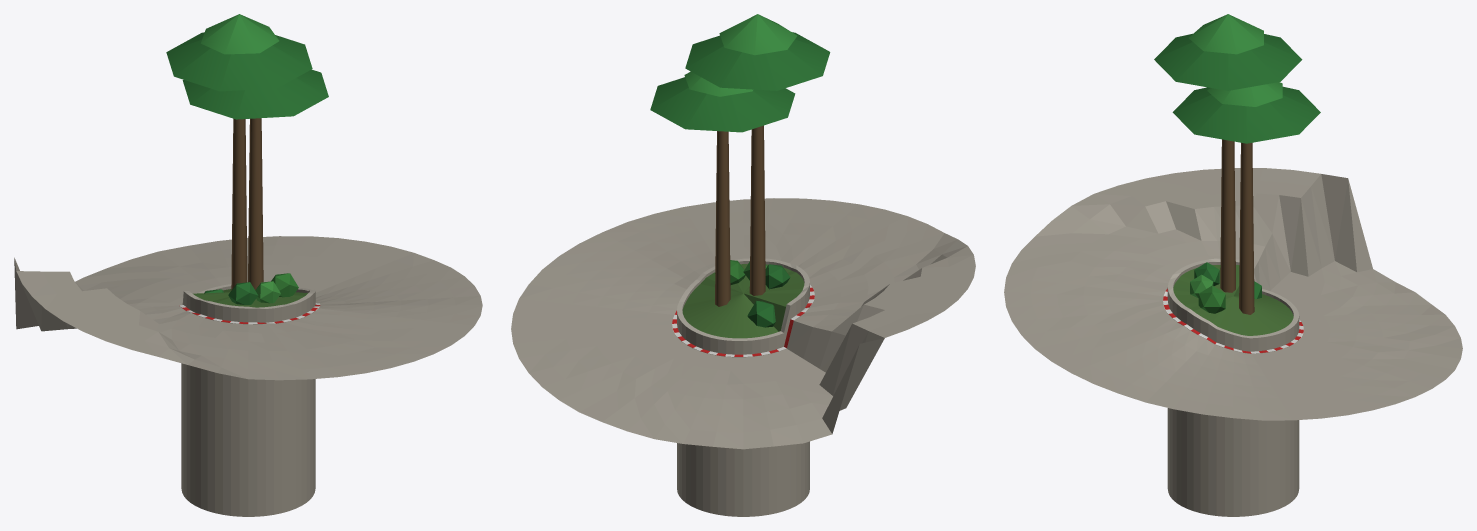
Rendered from monaco-canteiro.glb.
The picture shows the model from 3 angles, left to right: view 1: azimuth 30°, elevation 25°; view 2: azimuth 150°, elevation 25°; view 3: azimuth 270°, elevation 25°; orthographic projection. The views are drawn at different scales.
Visible parts, largest first — view 1: monaco-canteiro; view 2: monaco-canteiro; view 3: monaco-canteiro.
Part boxes in pixels (box(x1,y1,x2,y2)): monaco-canteiro: box(14, 14, 482, 516); monaco-canteiro: box(511, 14, 975, 516); monaco-canteiro: box(1004, 14, 1462, 516).
Bounding box in the file's own units: 18.04 × 20.37 × 18.04.
